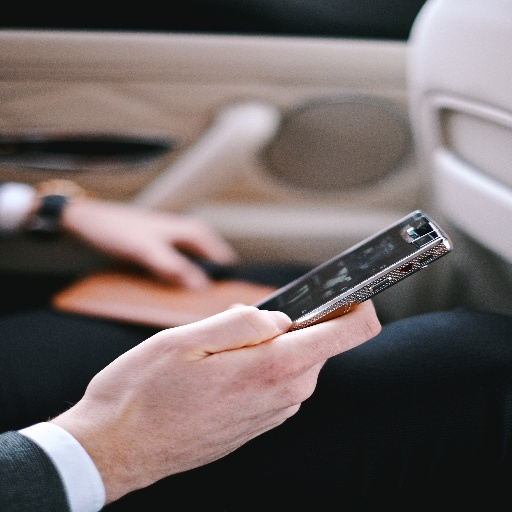hand: (52, 293, 386, 505), (54, 196, 240, 294)
